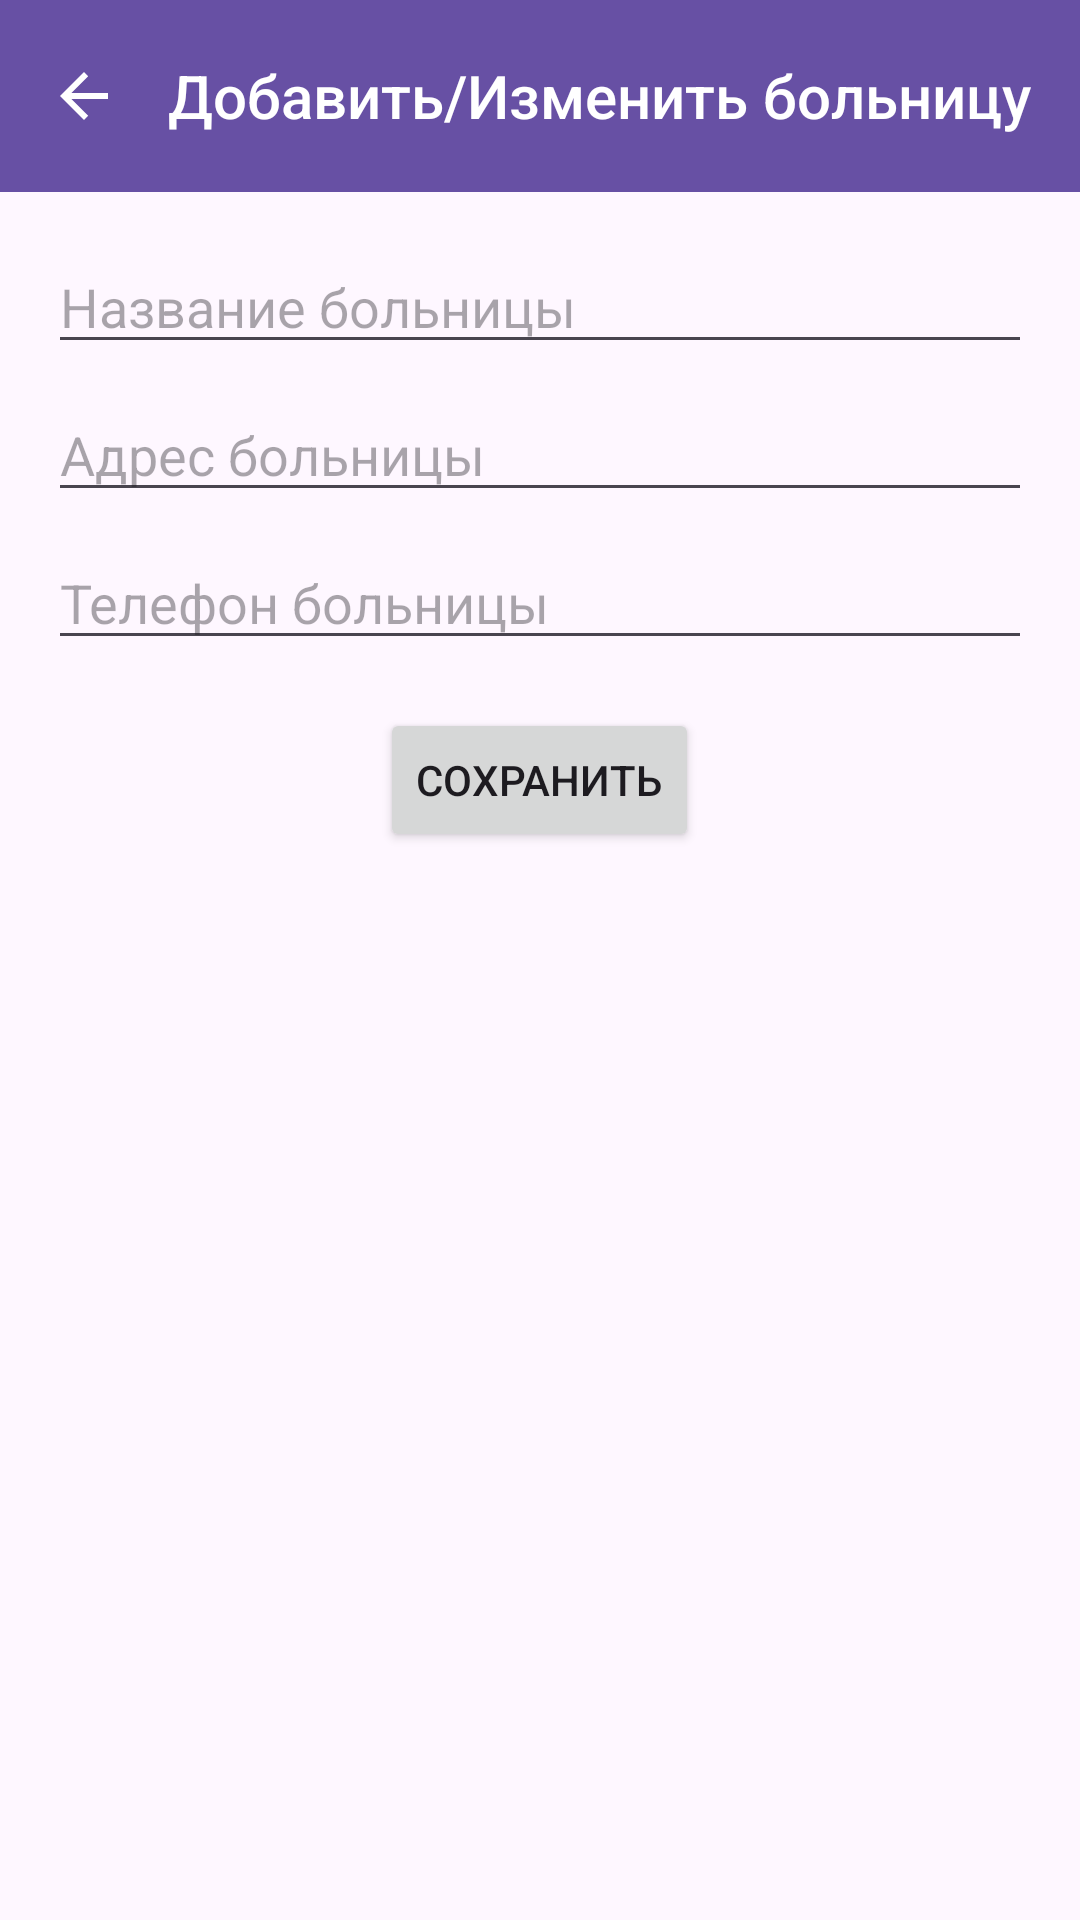

Locate icon controls on the screen. Image size 1080×1920, boxes as (x1, y1, x2, y2).
Назад: (60, 72, 108, 120)
